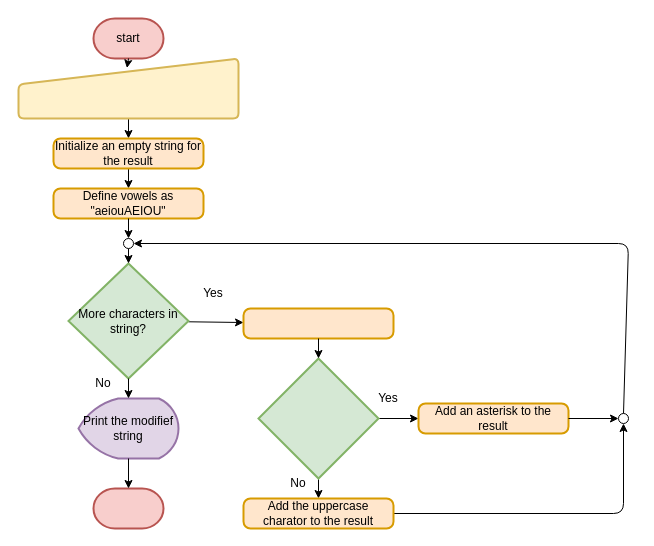
Some shapes in this 654 by 546 pixel diagram are drawn without their labels. Here are the shapes that lost their labels. From the top down, the box of each, then its label:
(17, 57, 239, 119): Read input string from the user
(242, 307, 394, 339): Covert character to uppercase
(257, 357, 379, 479): Is character a vowel?
(92, 487, 164, 529): End
